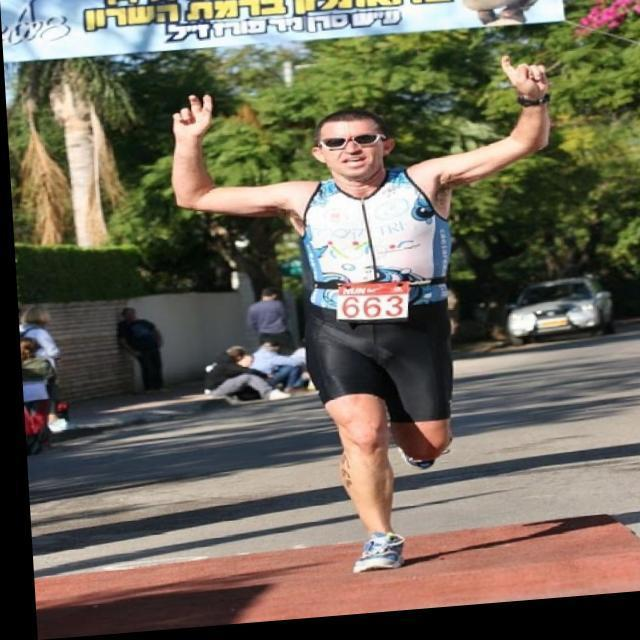dorsal: (327, 281, 412, 332)
